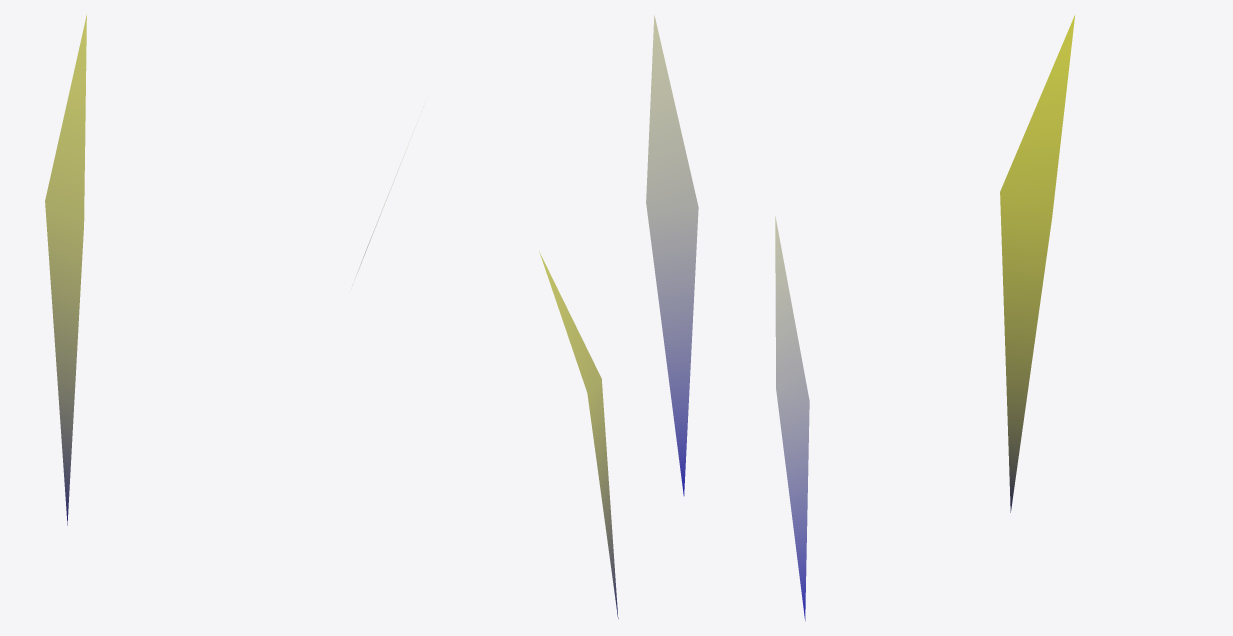
3 views of the same model, side by side, from view 1: azimuth 30°, elevation 25°; view 2: azimuth 150°, elevation 25°; view 3: azimuth 270°, elevation 25° (orthographic). The views are drawn at different scales.
Parts seen in each view (by area): view 1: Grass_2; view 2: Grass_2; view 3: Grass_2.
Boxes of the visible parts, x1,y1,x2,y2 form: Grass_2: (45,14,423,525); Grass_2: (539,15,698,618); Grass_2: (775,14,1075,620).
Bounding box in the file's own units: 0.5016 × 0.829 × 0.6931.
